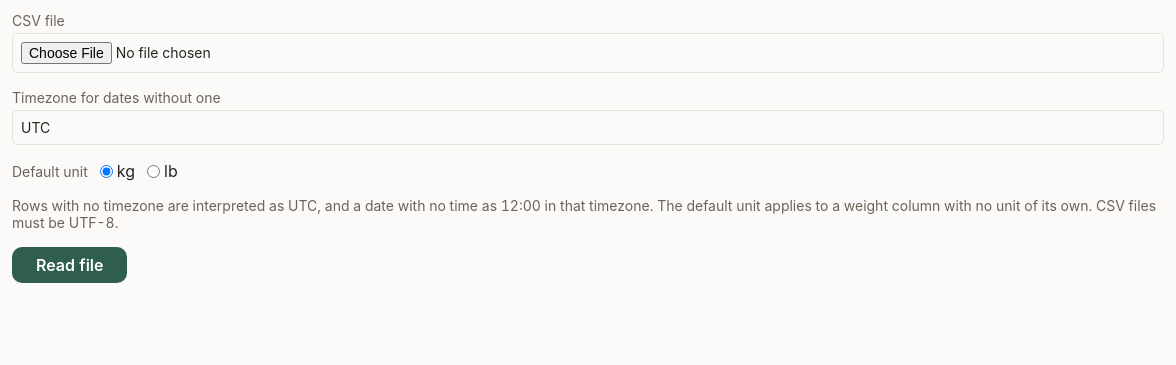
Scenario: CsvImport › requires a file before reading
The width and height of the screenshot is (1176, 365).
Click the button "Read file". click: (70, 265)
box: [12,247,128,283]
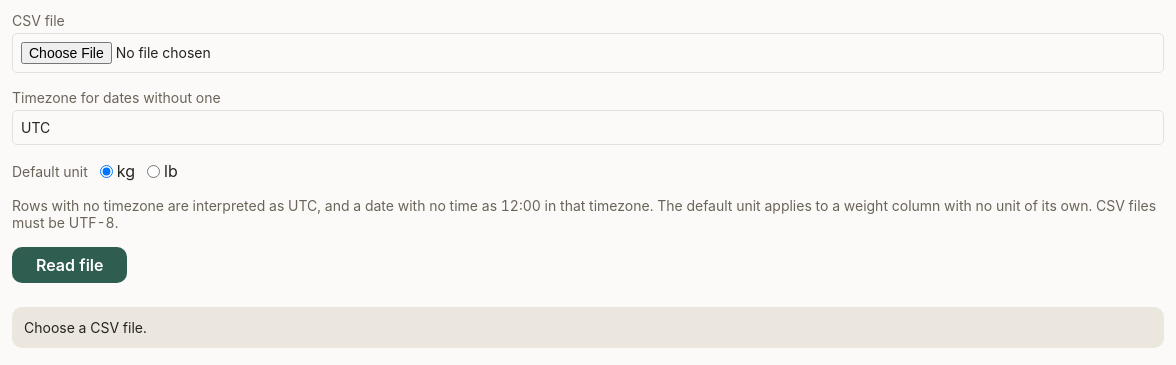
Now the message reads "Choose a CSV file.", box [24,319,147,336]
